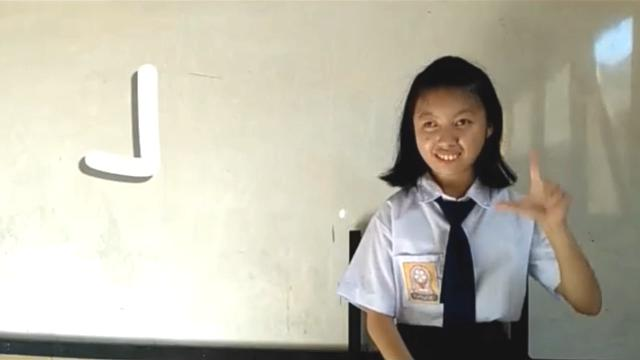L: (492, 148, 576, 236)
